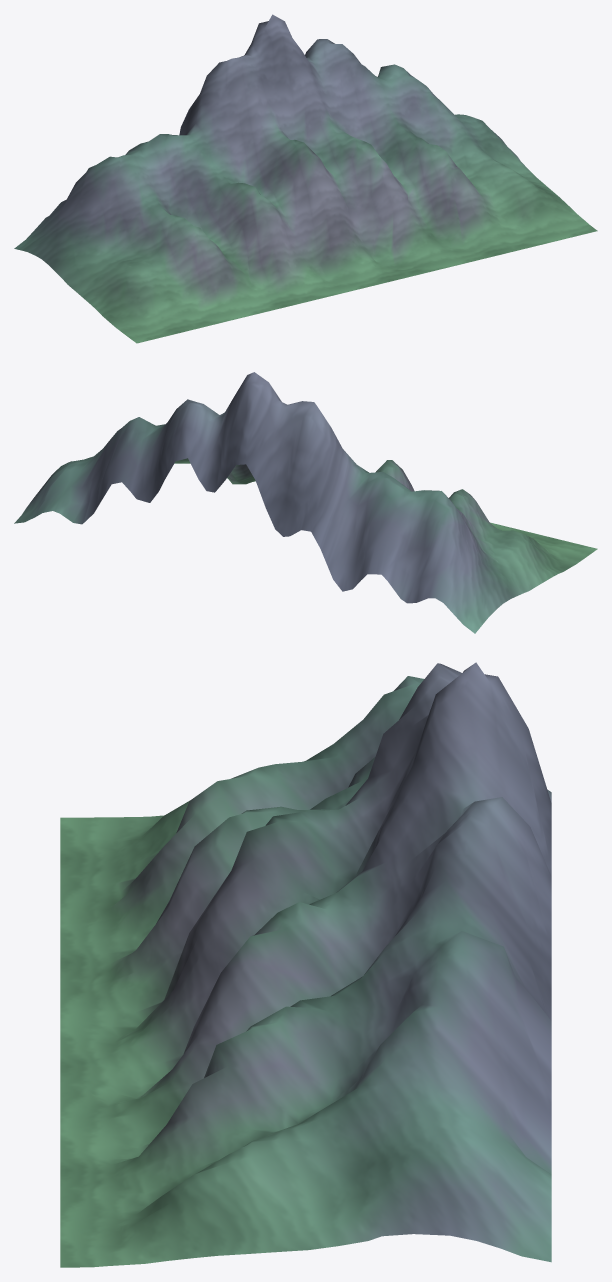
The model's file is ridge_far.glb.
The picture shows the model from 3 angles, top to bottom: view 1: azimuth 30°, elevation 25°; view 2: azimuth 150°, elevation 25°; view 3: azimuth 270°, elevation 25°; orthographic projection. The views are drawn at different scales.
Visible parts, largest first — view 1: ridge_far; view 2: ridge_far; view 3: ridge_far.
Part boxes in pixels (bbox=[...]): ridge_far: bbox=[14, 14, 597, 343]; ridge_far: bbox=[14, 372, 597, 633]; ridge_far: bbox=[60, 662, 551, 1267].
Bounding box in the file's own units: 26 × 10.75 × 12.
1 material, 1 textured.
